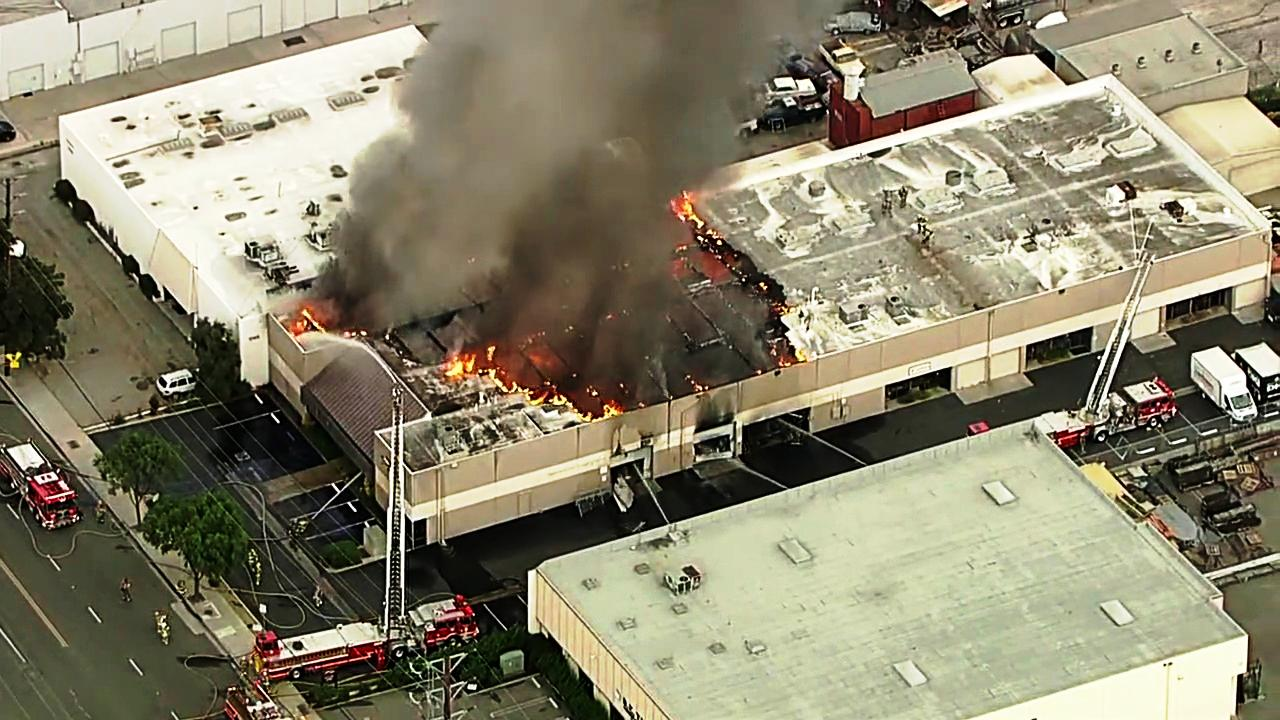smoke: (425, 0, 699, 337)
